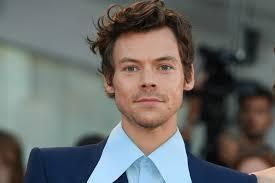Persons: (85, 0, 201, 131)
